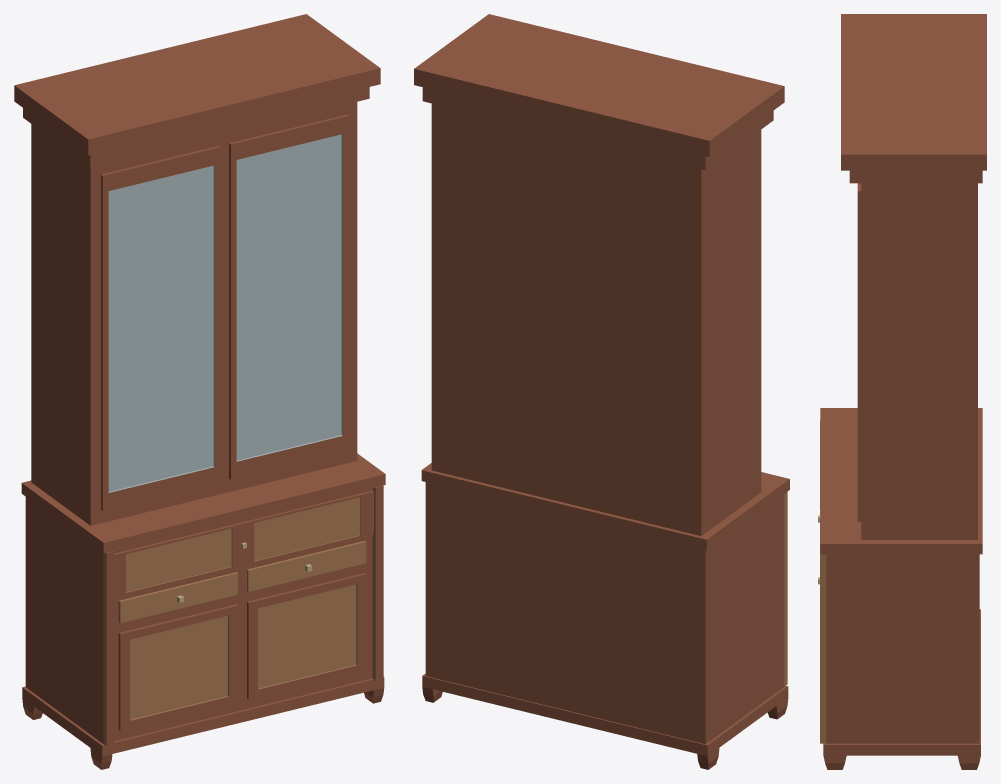
File: secreter.fbx
3 renders of one model, left to right at view 1: azimuth 30°, elevation 25°; view 2: azimuth 150°, elevation 25°; view 3: azimuth 270°, elevation 25°, orthographic. The views are drawn at different scales.
Parts seen in each view (by area): view 1: secreter; view 2: secreter; view 3: secreter.
Part boxes in pixels (x1,y1,x2,y2): secreter: (14,14,385,769); secreter: (414,14,789,769); secreter: (818,14,986,769).
Size of the model in its own units: 114 by 234 by 57.8.
